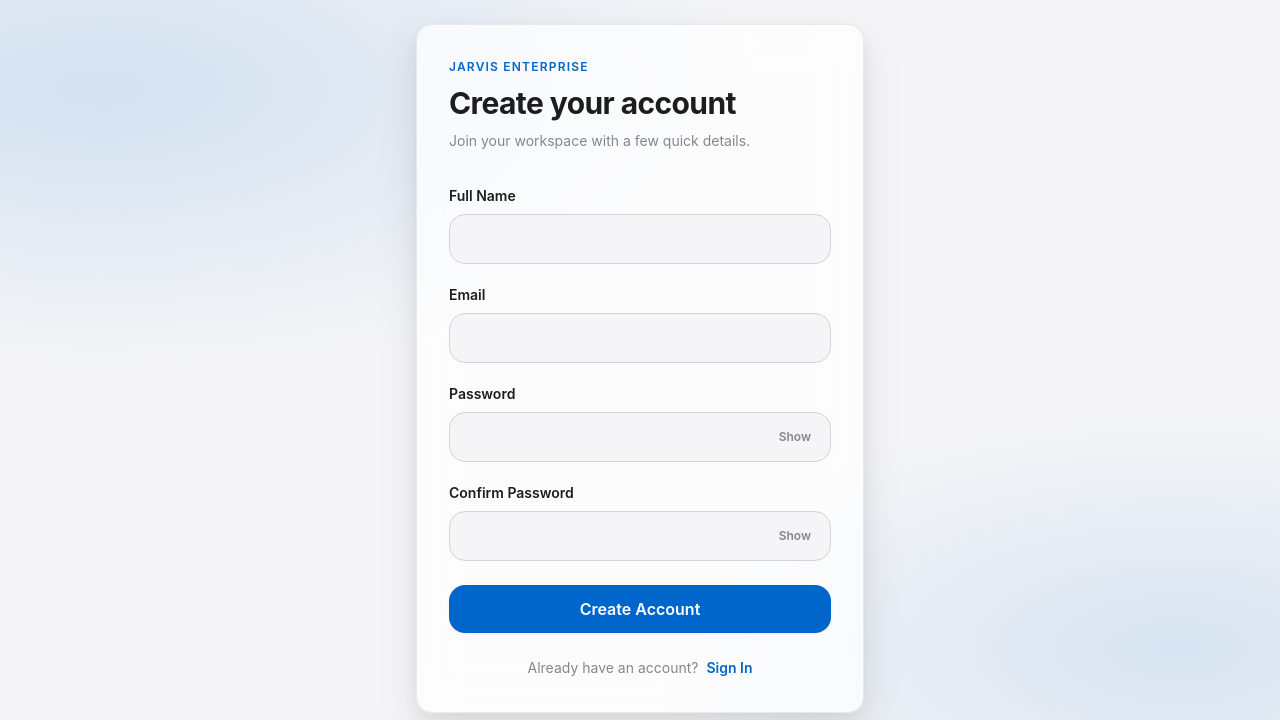
Test: SignupComponent › shows a validation message for invalid email format
Type "Jane Doe" into the field with id "fullName" at (640, 239), box [449,214,831,264]
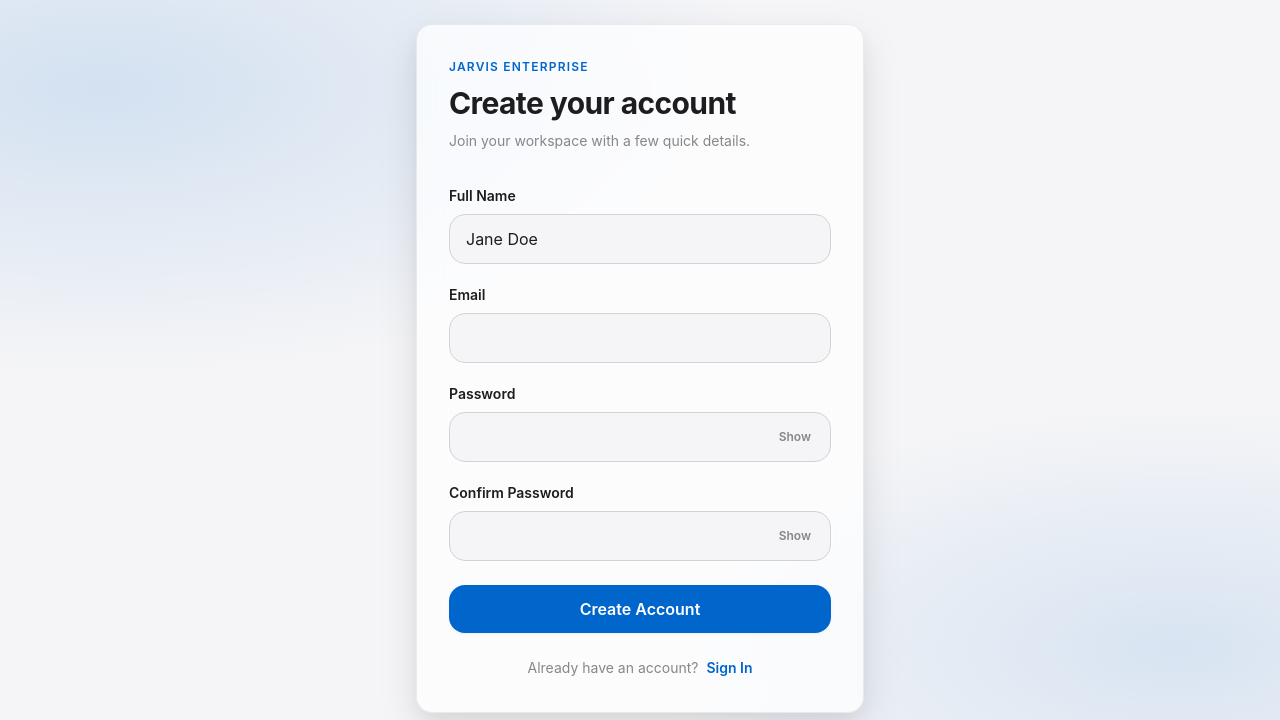
Type "invalid-email" into the field with id "email" at (640, 338), box [449,313,831,363]
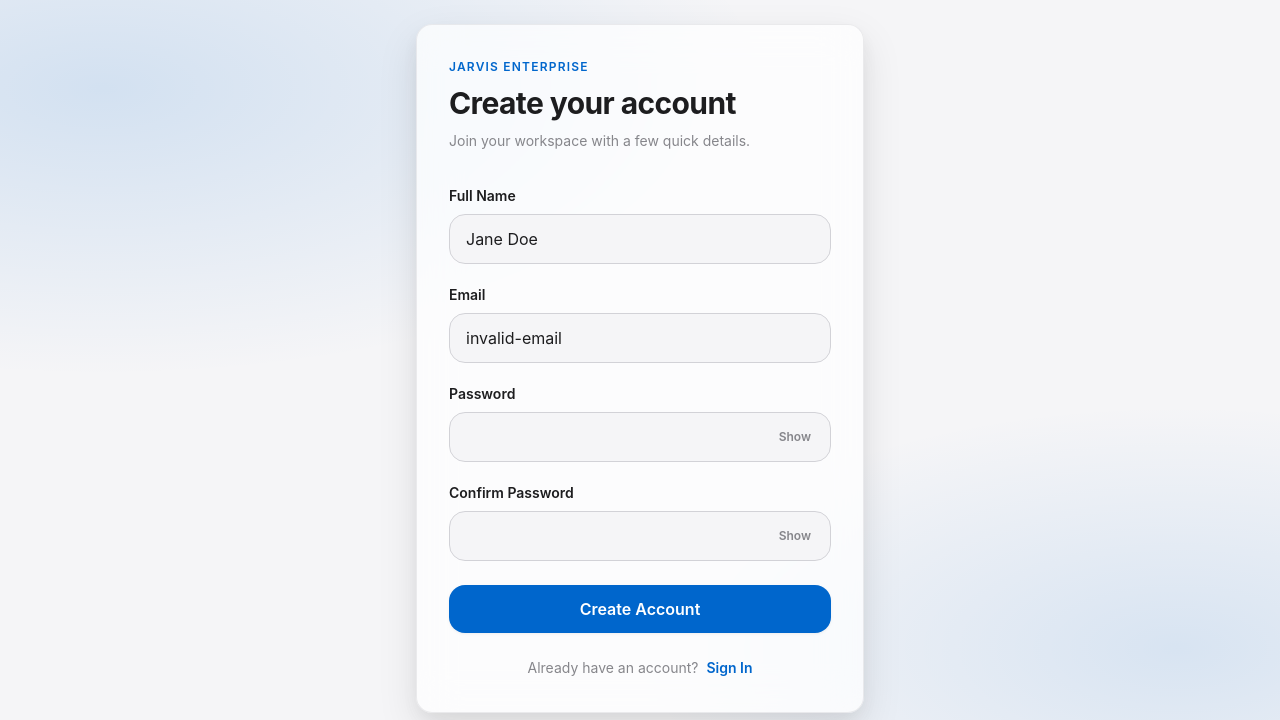
Type "SecurePass1" into the password field labelled "Password" at (640, 437), box [449,412,831,462]
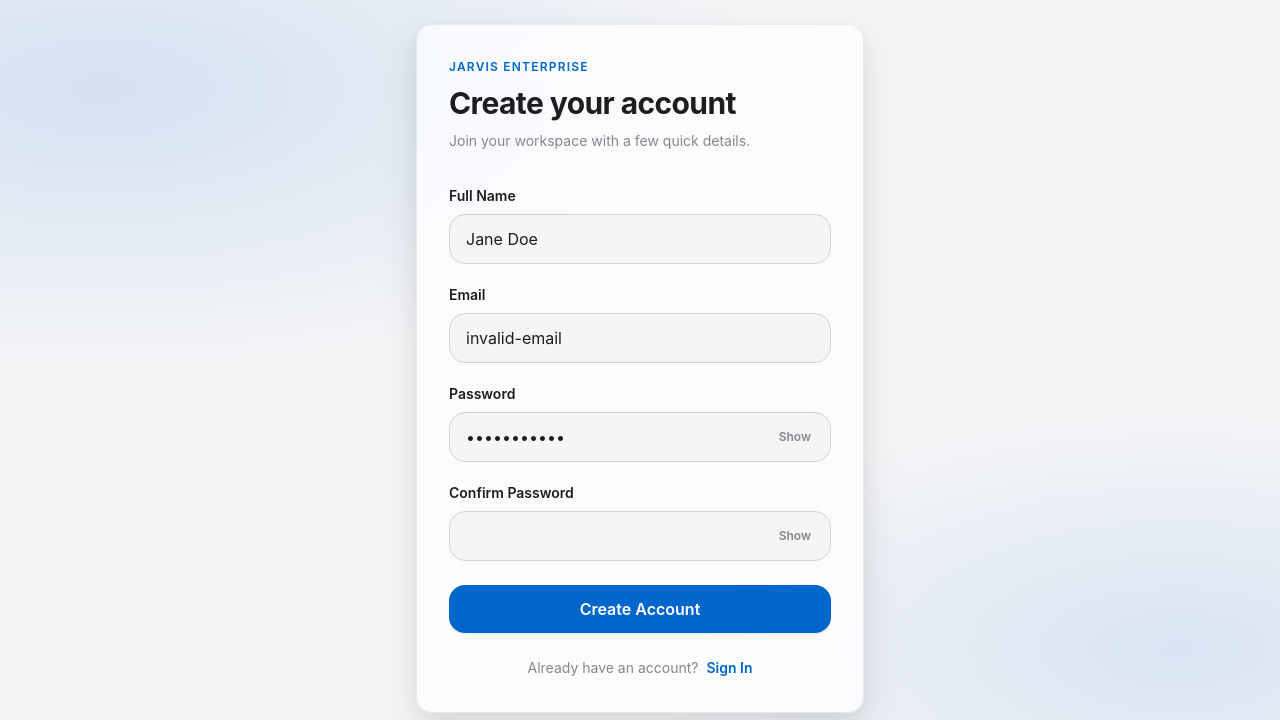
Type "SecurePass1" into the password field with id "confirmPassword" at (640, 536), box [449,511,831,561]
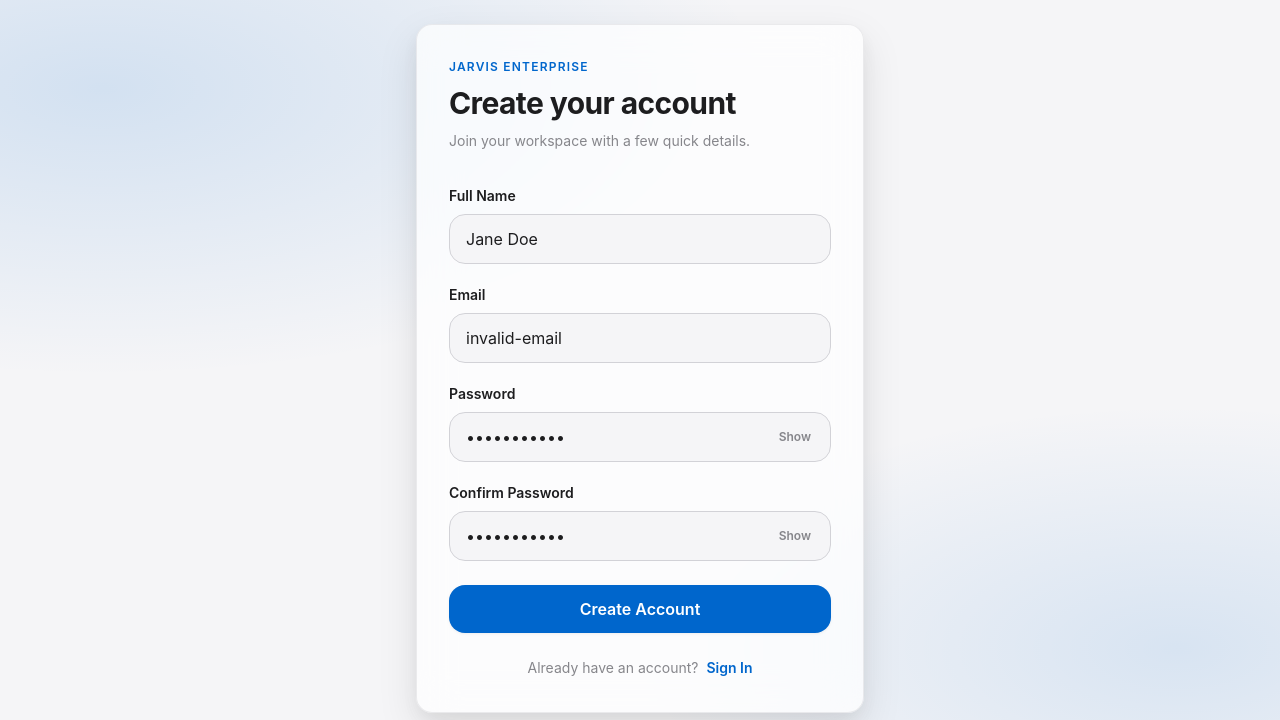
Click the submit button at (640, 609), box [449,585,831,633]
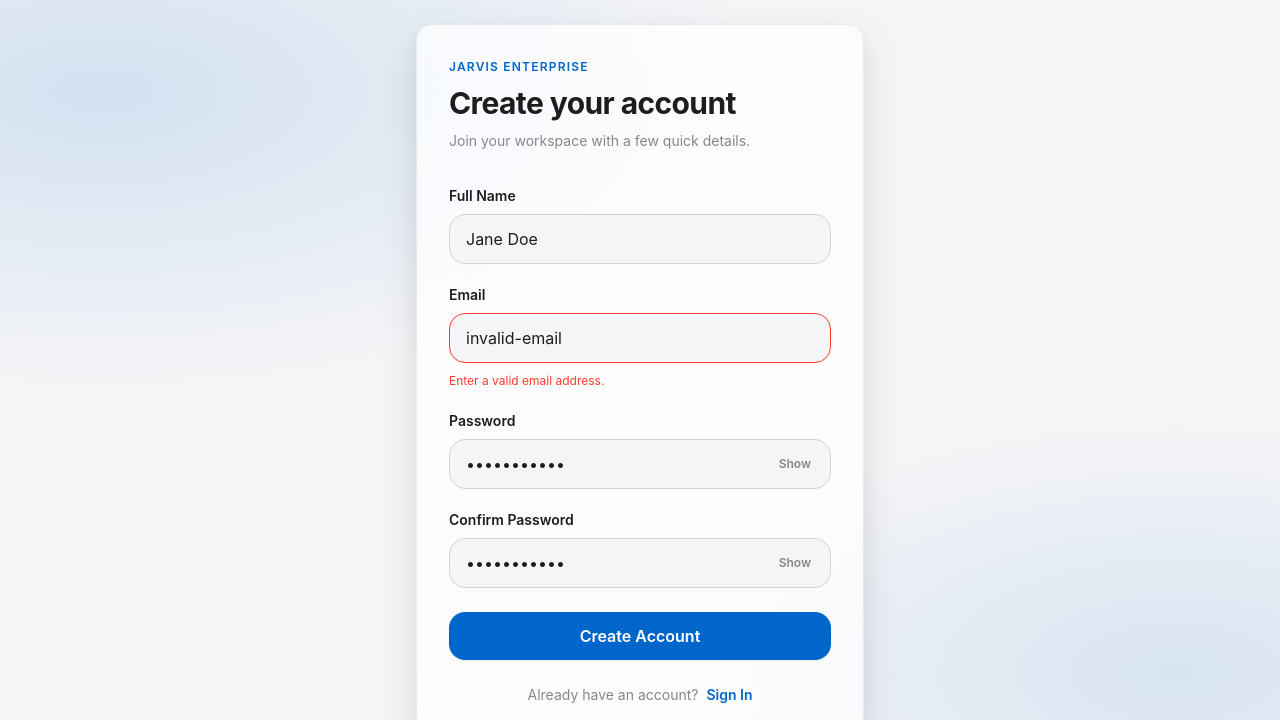
Check: the message with id "email-error" reads "Enter a valid email address.", box [449,373,604,388]
